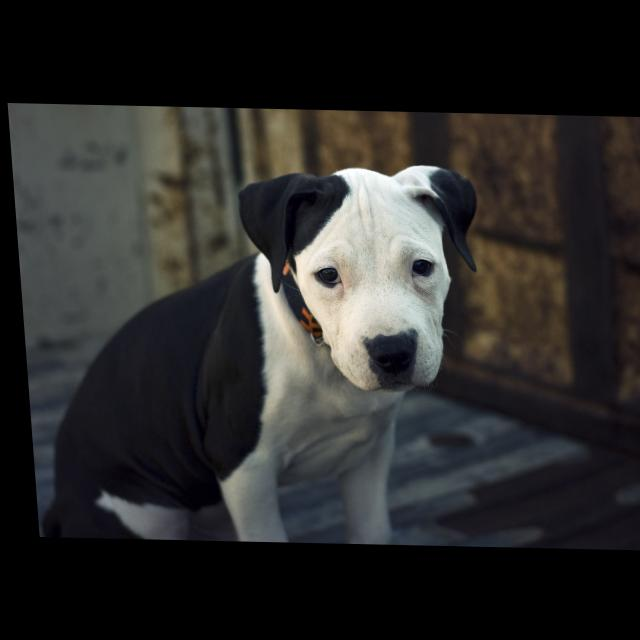amstaff: (13, 156, 496, 546)
